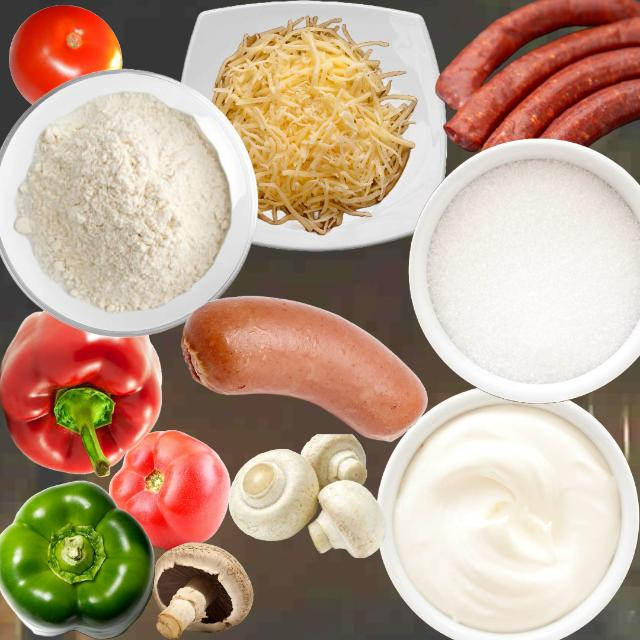Flour: (13, 90, 230, 312)
Sugar: (425, 156, 638, 383)
